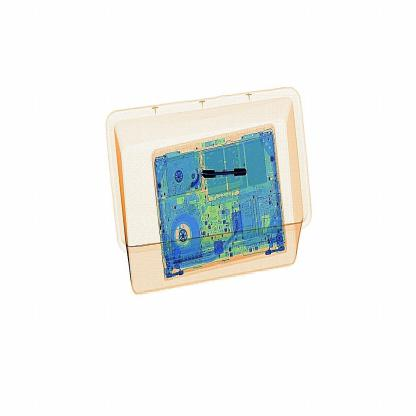knife: (196, 156, 254, 189)
